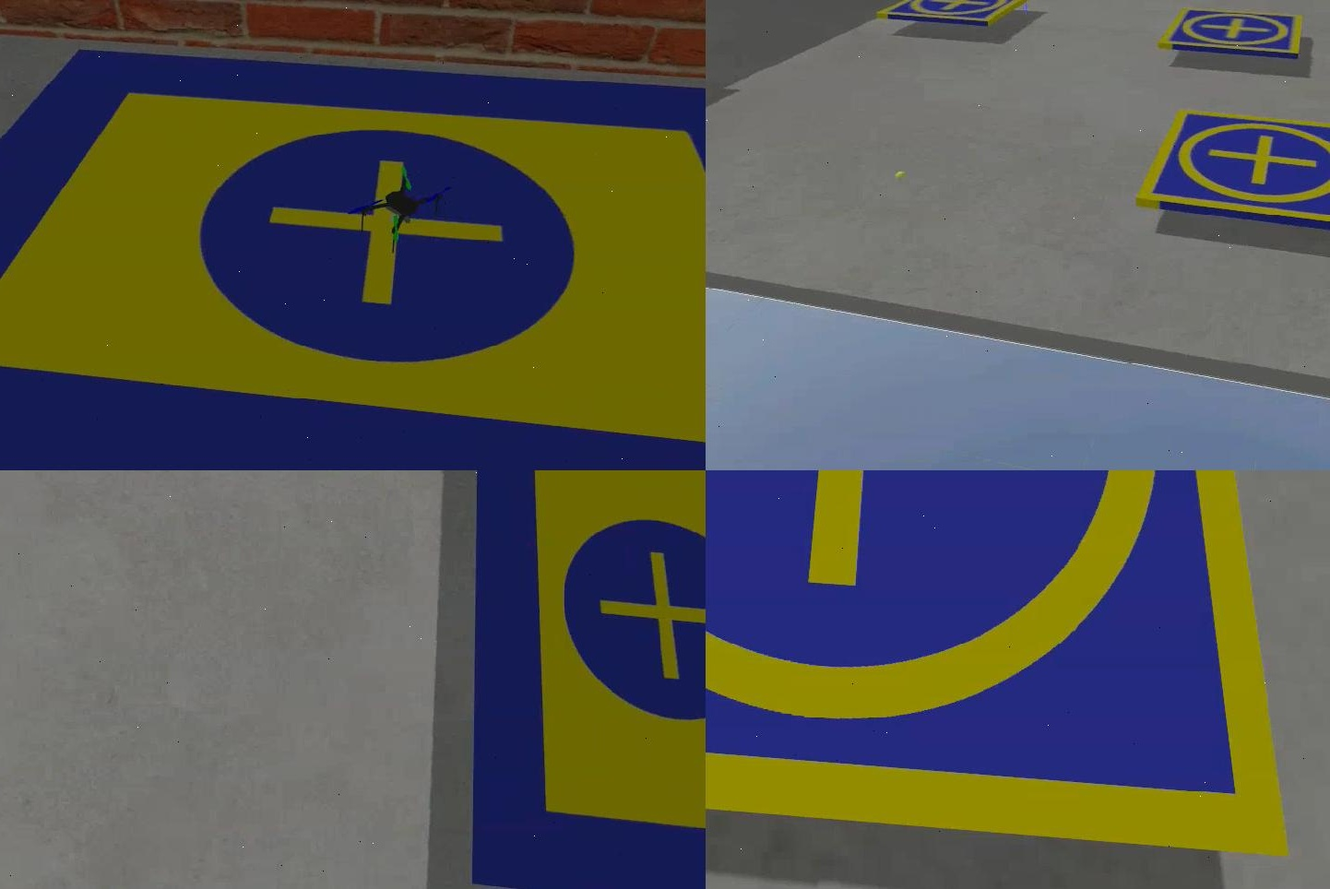large_base: (0, 50, 705, 471), (467, 471, 705, 889)
small_base: (705, 471, 1299, 861), (1135, 113, 1328, 242), (1155, 8, 1302, 58), (877, 1, 1039, 30)
